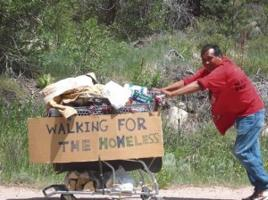person: (152, 44, 268, 200)
